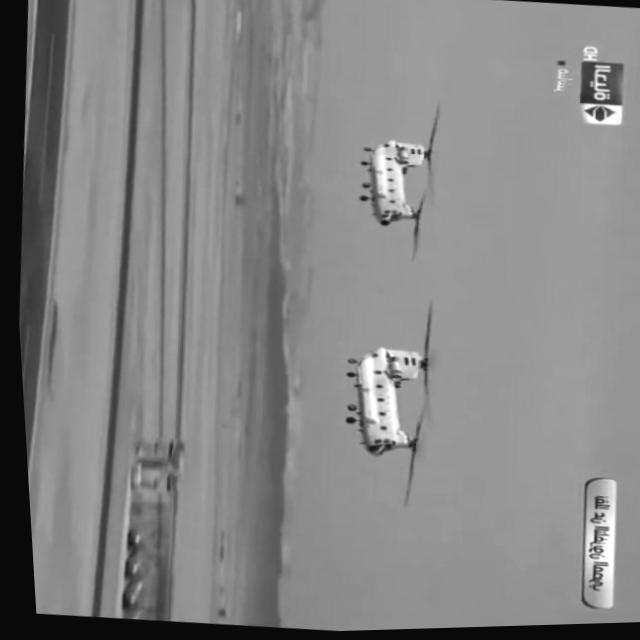helikopter: (308, 316, 447, 489), (318, 108, 453, 259)
